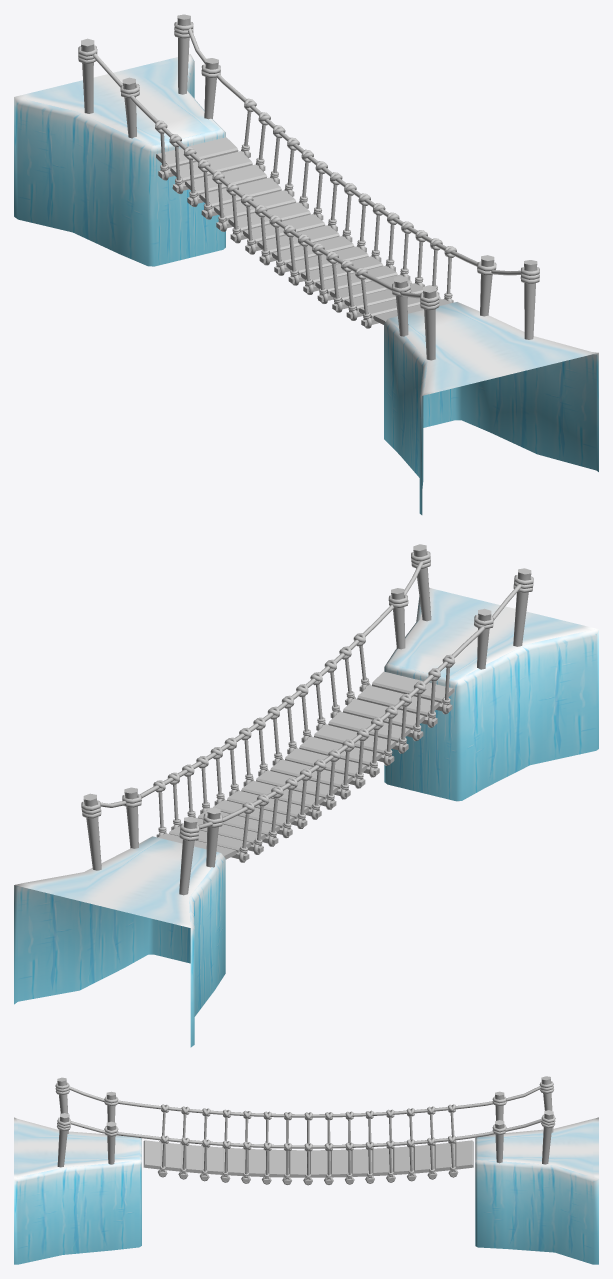
File: Bridge.FBX
3 views of the same model, one above another, from view 1: azimuth 30°, elevation 25°; view 2: azimuth 150°, elevation 25°; view 3: azimuth 270°, elevation 25° (orthographic). The views are drawn at different scales.
Visible parts, largest first — view 1: Group060, Box205; view 2: Group060, Box205; view 3: Group060, Box205.
Boxes of the visible parts, bbox=[...] form: Group060: bbox=[14, 54, 598, 514]; Box205: bbox=[78, 14, 539, 360]; Group060: bbox=[14, 588, 598, 1047]; Box205: bbox=[81, 544, 533, 895]; Group060: bbox=[14, 1117, 598, 1264]; Box205: bbox=[55, 1076, 555, 1185].
Bounding box in the file's own units: 600 × 626 × 2402.
